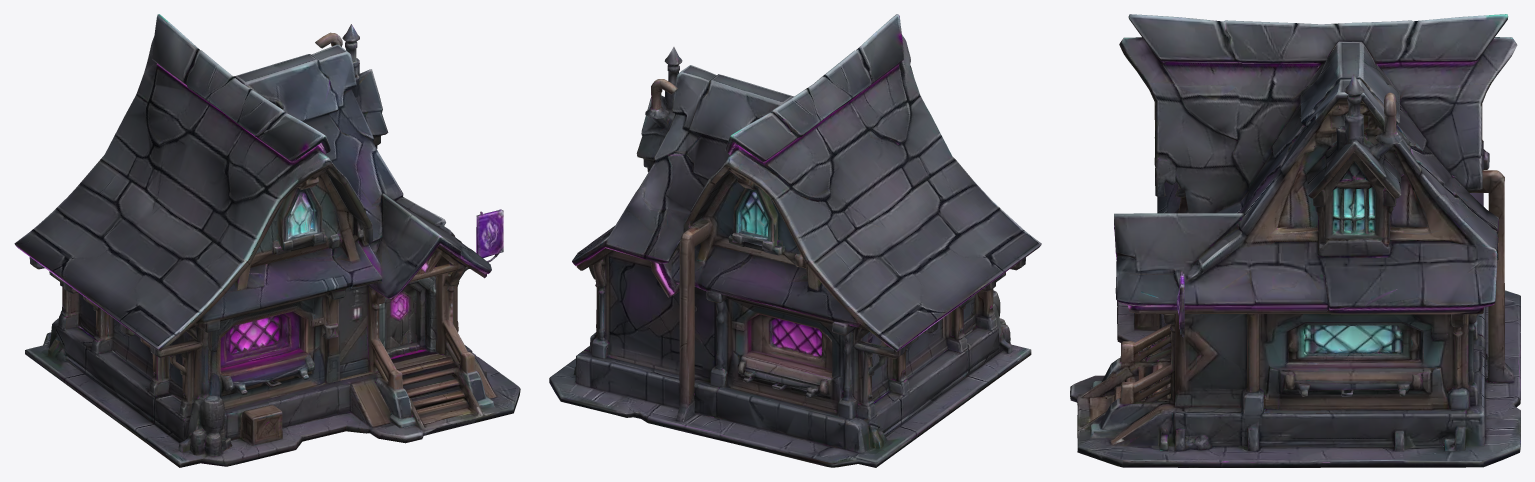
Rendered from cabin.glb.
The picture shows the model from 3 angles, left to right: view 1: azimuth 30°, elevation 25°; view 2: azimuth 150°, elevation 25°; view 3: azimuth 270°, elevation 25°; orthographic projection. The views are drawn at different scales.
Parts seen in each view (by area): view 1: Mesh_0; view 2: Mesh_0; view 3: Mesh_0.
Boxes of the visible parts, x1,y1,x2,y2 form: Mesh_0: (14, 14, 520, 467); Mesh_0: (549, 14, 1041, 467); Mesh_0: (1070, 14, 1520, 467).
Bounding box in the file's own units: 1.91 × 1.59 × 1.83.
Materials: 1 (1 with a texture image).
